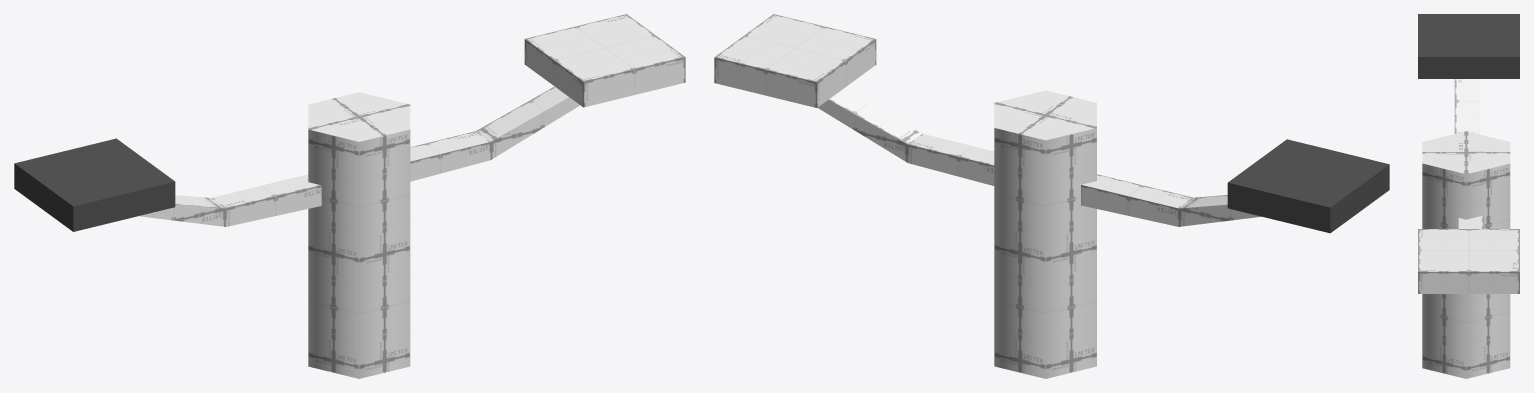
File: Waage.fbx
The picture shows the model from 3 angles, left to right: view 1: azimuth 30°, elevation 25°; view 2: azimuth 150°, elevation 25°; view 3: azimuth 270°, elevation 25°; orthographic projection. The views are drawn at different scales.
Visible parts, largest first — view 1: Cylinder, rightSide, leftSide, PolyShape, PolyShape__1_; view 2: Cylinder, leftSide, rightSide, PolyShape, PolyShape__1_; view 3: Cylinder, rightSide, leftSide, PolyShape__1_, PolyShape.
Boxes of the visible parts, x1,y1,x2,y2 form: Cylinder: (308,92,410,378); rightSide: (524,14,685,107); leftSide: (14,138,175,231); PolyShape: (410,86,580,181); PolyShape__1_: (138,174,321,226); Cylinder: (994,90,1096,378); leftSide: (1227,139,1389,233); rightSide: (714,14,876,107); PolyShape: (818,89,994,185); PolyShape__1_: (1081,174,1260,226); Cylinder: (1422,131,1510,378); rightSide: (1418,229,1519,293); leftSide: (1418,14,1519,78); PolyShape__1_: (1454,79,1479,134); PolyShape: (1458,215,1483,228).
Size of the model in its own units: 600 by 229 by 100.
2 materials, 1 textured.
